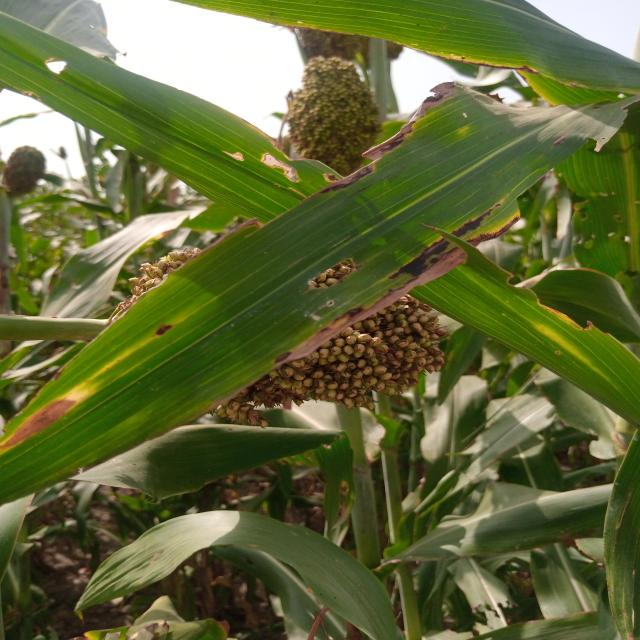UnripeSorghum: (271, 253, 484, 403), (237, 57, 422, 186)
